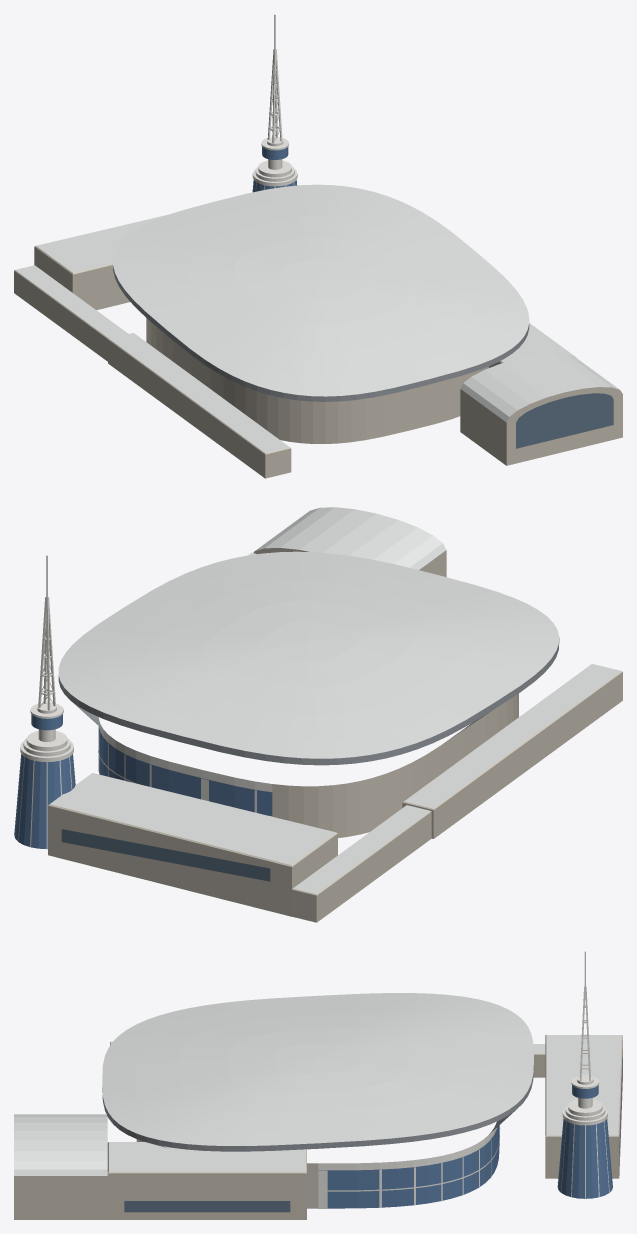
Rendered from nash-bridgestone-arena.glb.
3 renders of one model, top to bottom at view 1: azimuth 30°, elevation 25°; view 2: azimuth 150°, elevation 25°; view 3: azimuth 270°, elevation 25°, orthographic. The views are drawn at different scales.
Visible parts, largest first — view 1: Bridgestone Arena; view 2: Bridgestone Arena; view 3: Bridgestone Arena.
Boxes of the visible parts, bbox=[...] form: Bridgestone Arena: bbox=[14, 14, 622, 478]; Bridgestone Arena: bbox=[14, 507, 622, 922]; Bridgestone Arena: bbox=[14, 951, 622, 1219].
Size of the model in its own units: 132 by 94 by 220.
